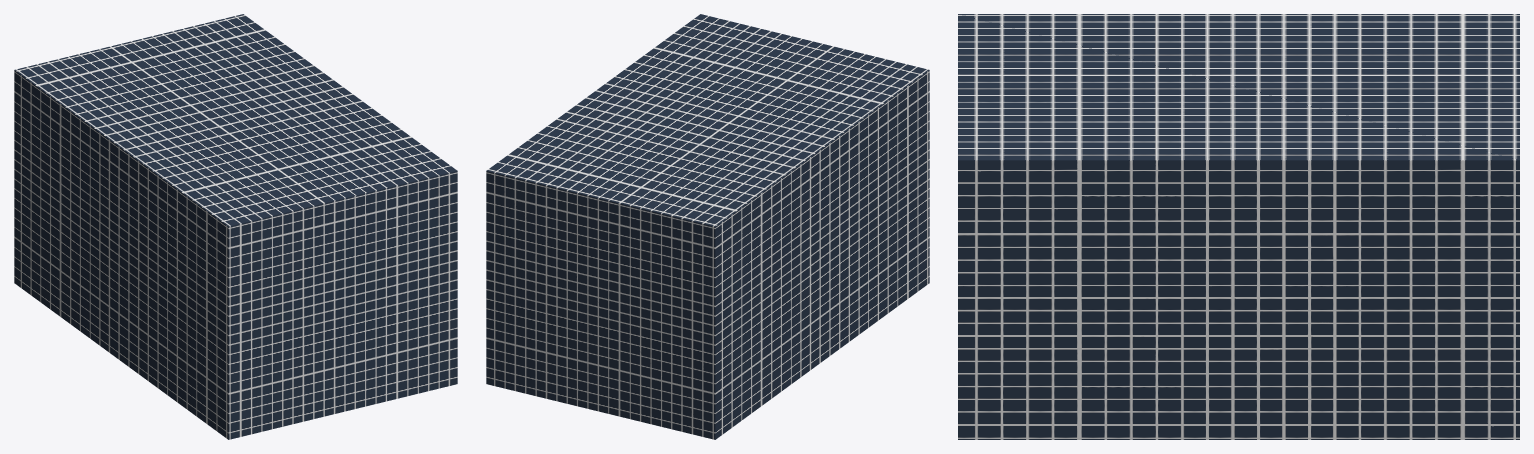
Rendered from SceneEnclosure.fbx.
The picture shows the model from 3 angles, left to right: view 1: azimuth 30°, elevation 25°; view 2: azimuth 150°, elevation 25°; view 3: azimuth 270°, elevation 25°; orthographic projection. The views are drawn at different scales.
Visible parts, largest first — view 1: Cube; view 2: Cube; view 3: Cube.
Part boxes in pixels (bbox=[...]): Cube: bbox=[14, 14, 457, 439]; Cube: bbox=[486, 14, 929, 439]; Cube: bbox=[958, 14, 1519, 439].
Bounding box in the file's own units: 3810 × 3390 × 6174.
